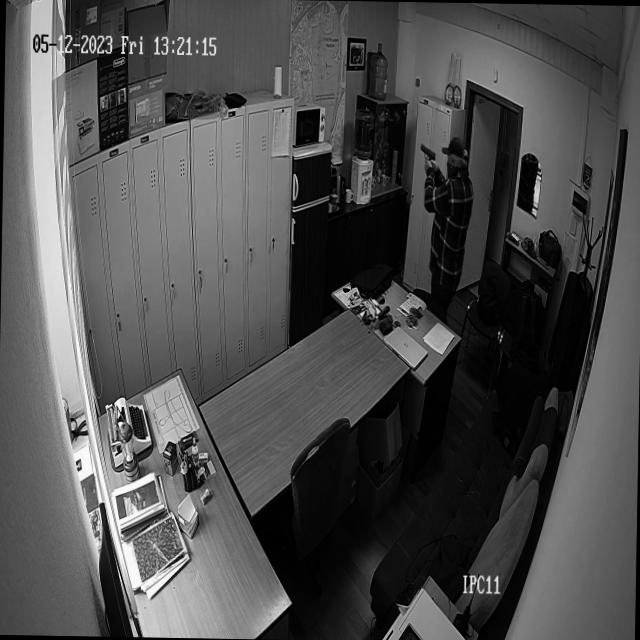gun: (418, 139, 438, 177)
person with a gun: (414, 132, 476, 290)
